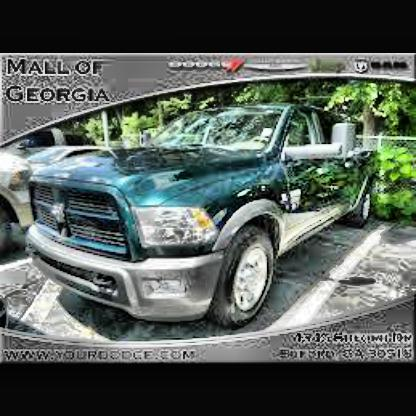Dodge Ram Pickup 3500 Crew Cab 2010: (30, 99, 389, 335)
